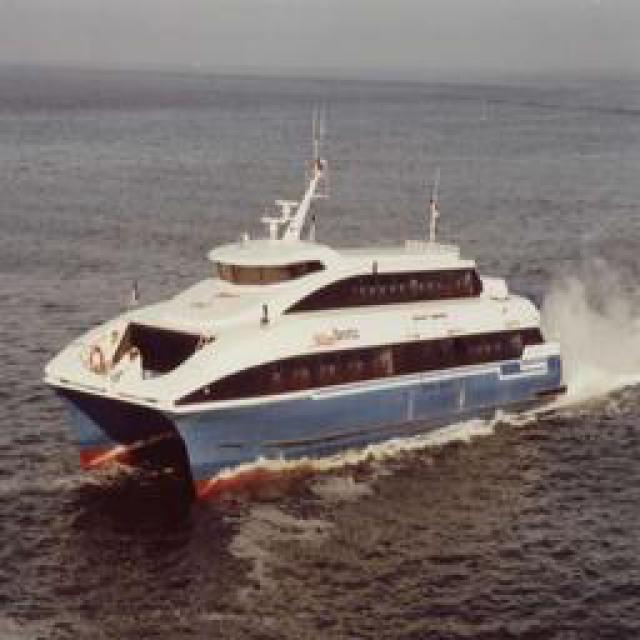Ship: (46, 120, 564, 520)
